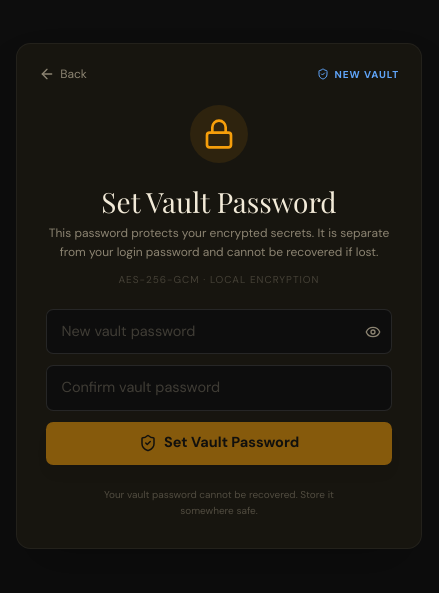
Test case: VaultLocked Component › validates password length and match during setup
This screenshot has width=439, height=593.
Expected: the heading "Set Vault Password" is shown, [101,183,337,220]
Note: Password too short
In the password field with placeholder "New vault password": (219,332) [46,309,392,354], type "short"
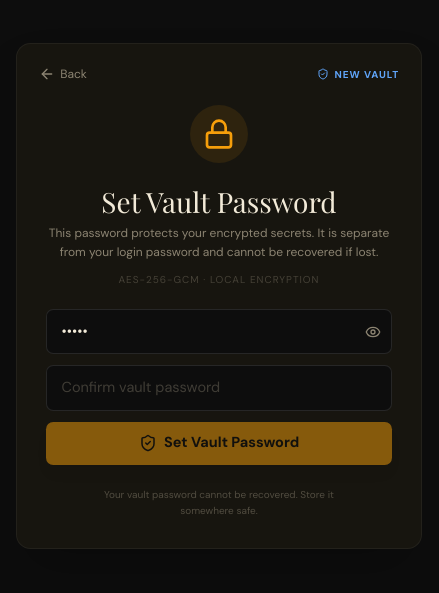
In the password field with placeholder "Confirm vault password": (219,388) [46,365,392,411], type "short"
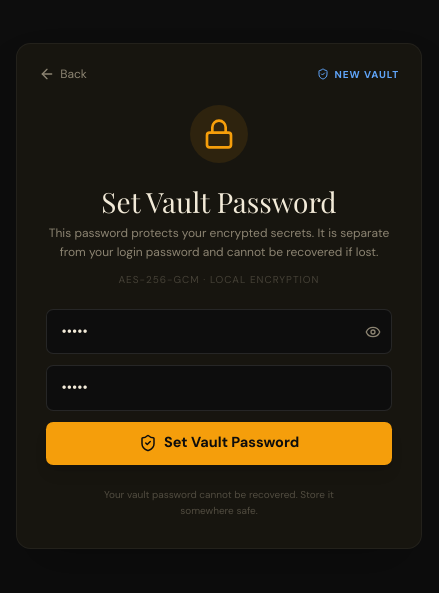
Click the button "Set Vault Password": (219,443) [46,422,392,465]
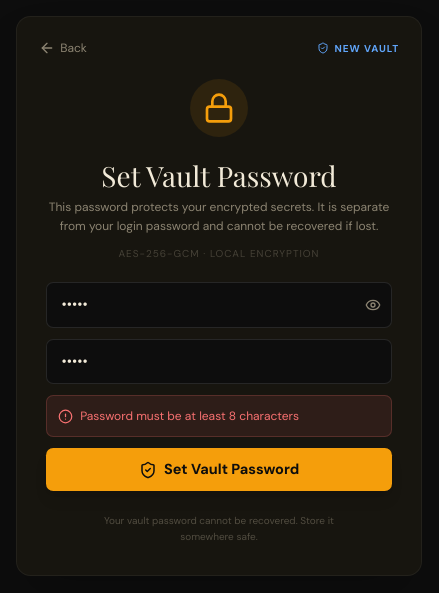
Expected: the text "Password must be at least 8 characters" is shown, [80,407,299,425]
Note: Passwords mismatch
In the 1st password field with placeholder "New vault password": (219,305) [46,282,392,328], type "password123"
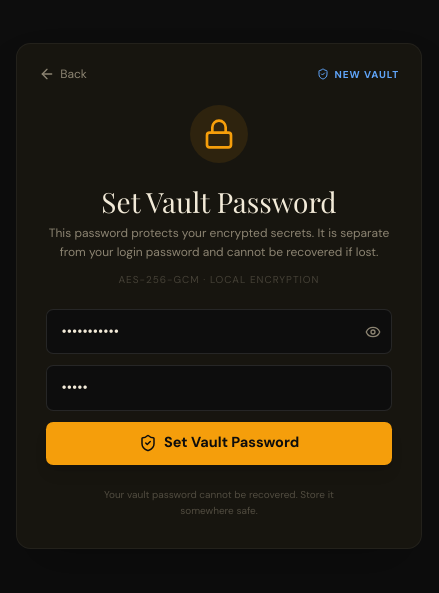
In the 2nd password field with placeholder "Confirm vault password": (219,388) [46,365,392,411], type "different123"
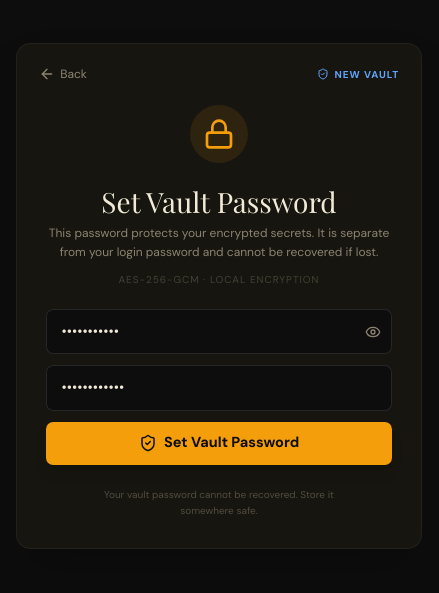
Click the button "Set Vault Password": (219,443) [46,422,392,465]
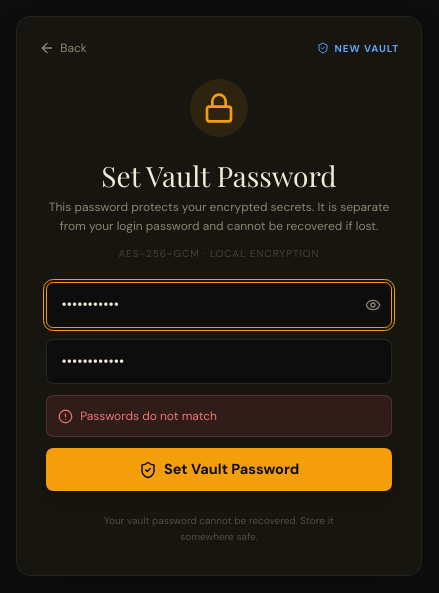
Expected: the text "Passwords do not match" is shown, [80,407,217,425]
